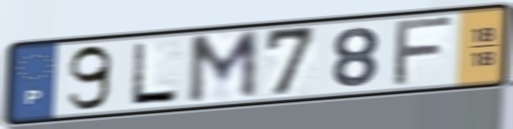7: (262, 24, 320, 101)
8: (331, 25, 382, 88)
9: (65, 43, 115, 113)
F: (389, 14, 459, 89)
L: (127, 40, 182, 106)
M: (184, 27, 262, 107)
